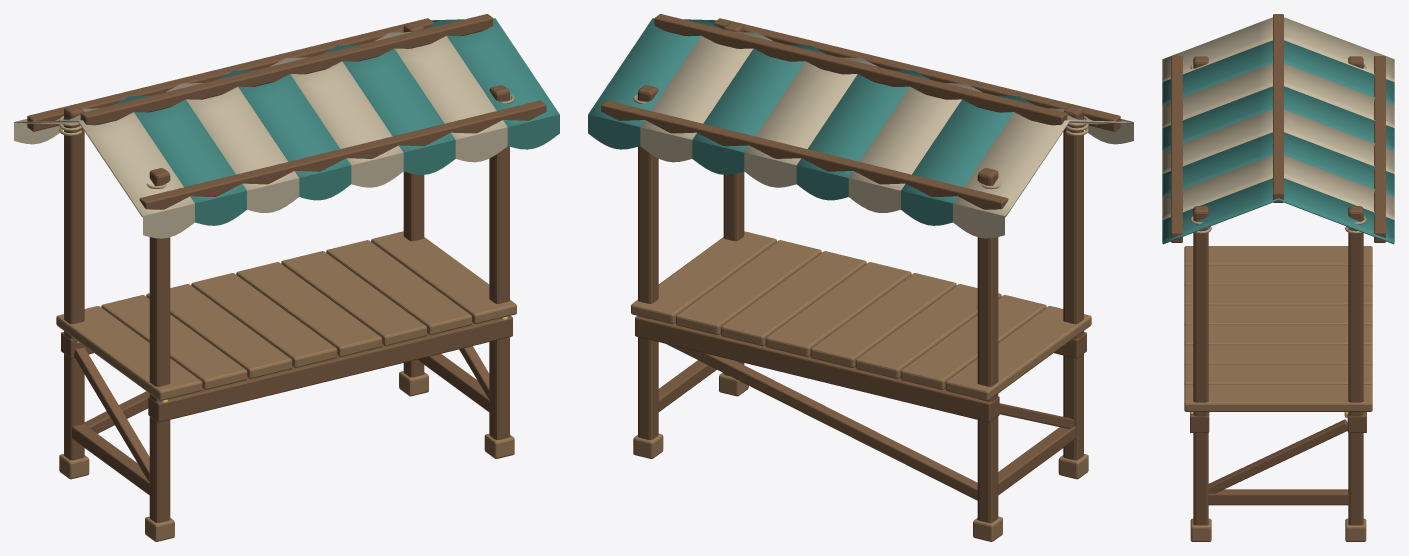
File: market-stall.glb
3 renders of one model, left to right at view 1: azimuth 30°, elevation 25°; view 2: azimuth 150°, elevation 25°; view 3: azimuth 270°, elevation 25°, orthographic. The views are drawn at different scales.
Parts seen in each view (by area): view 1: market-stall__Visual_matte; view 2: market-stall__Visual_matte; view 3: market-stall__Visual_matte.
Part boxes in pixels (left/top/right/bottom): market-stall__Visual_matte: left=14, top=14, right=559, bottom=541; market-stall__Visual_matte: left=588, top=14, right=1133, bottom=541; market-stall__Visual_matte: left=1162, top=14, right=1394, bottom=541.
Size of the model in its own units: 2.7 by 2.47 by 1.44.
